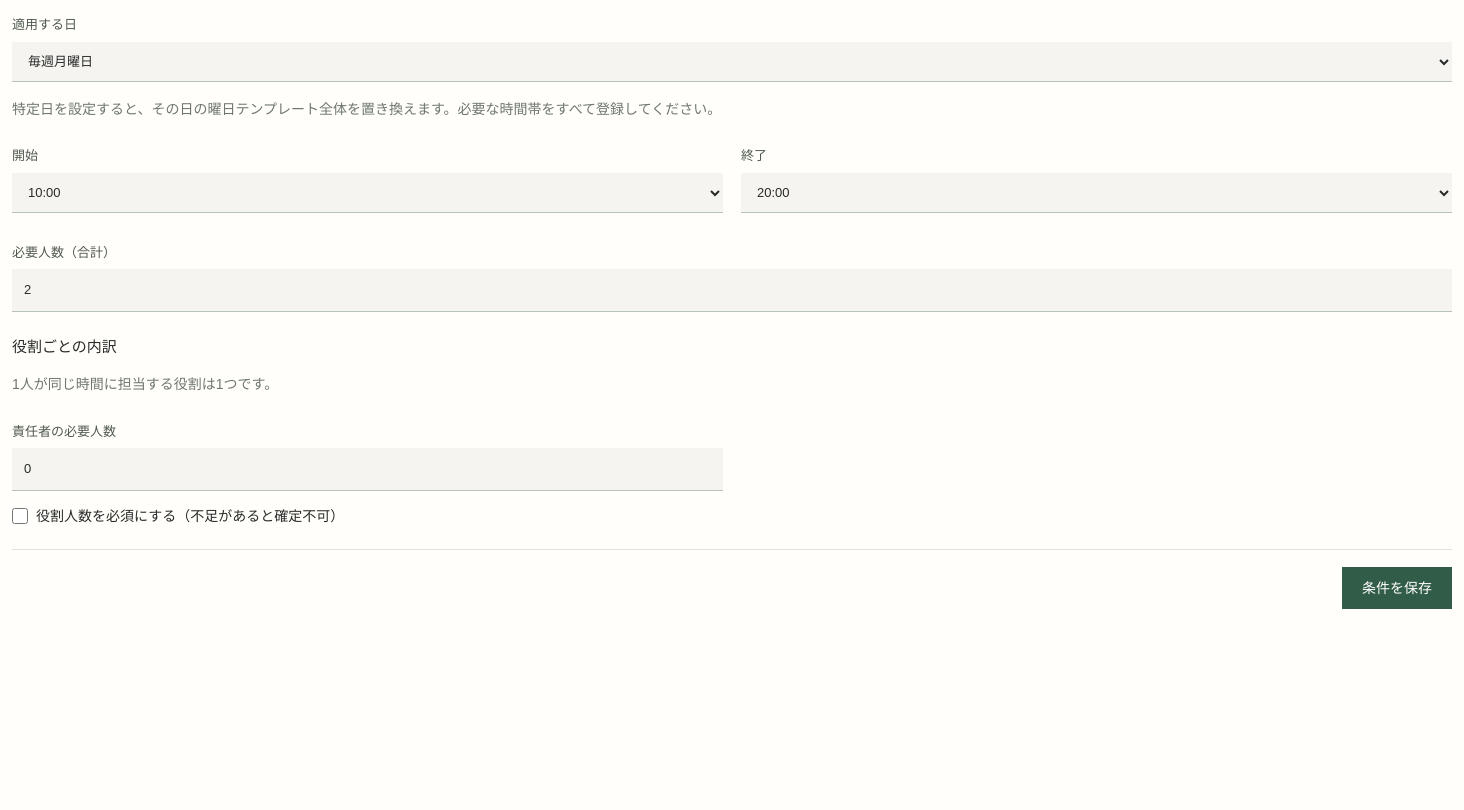
Test case: 役割合計が必要人数を超えたら保存を止める
This screenshot has width=1464, height=810.
Replace the text in the number field labelled "責任者の必要人数" with "3" at (368, 469), box [12,448,723,490]
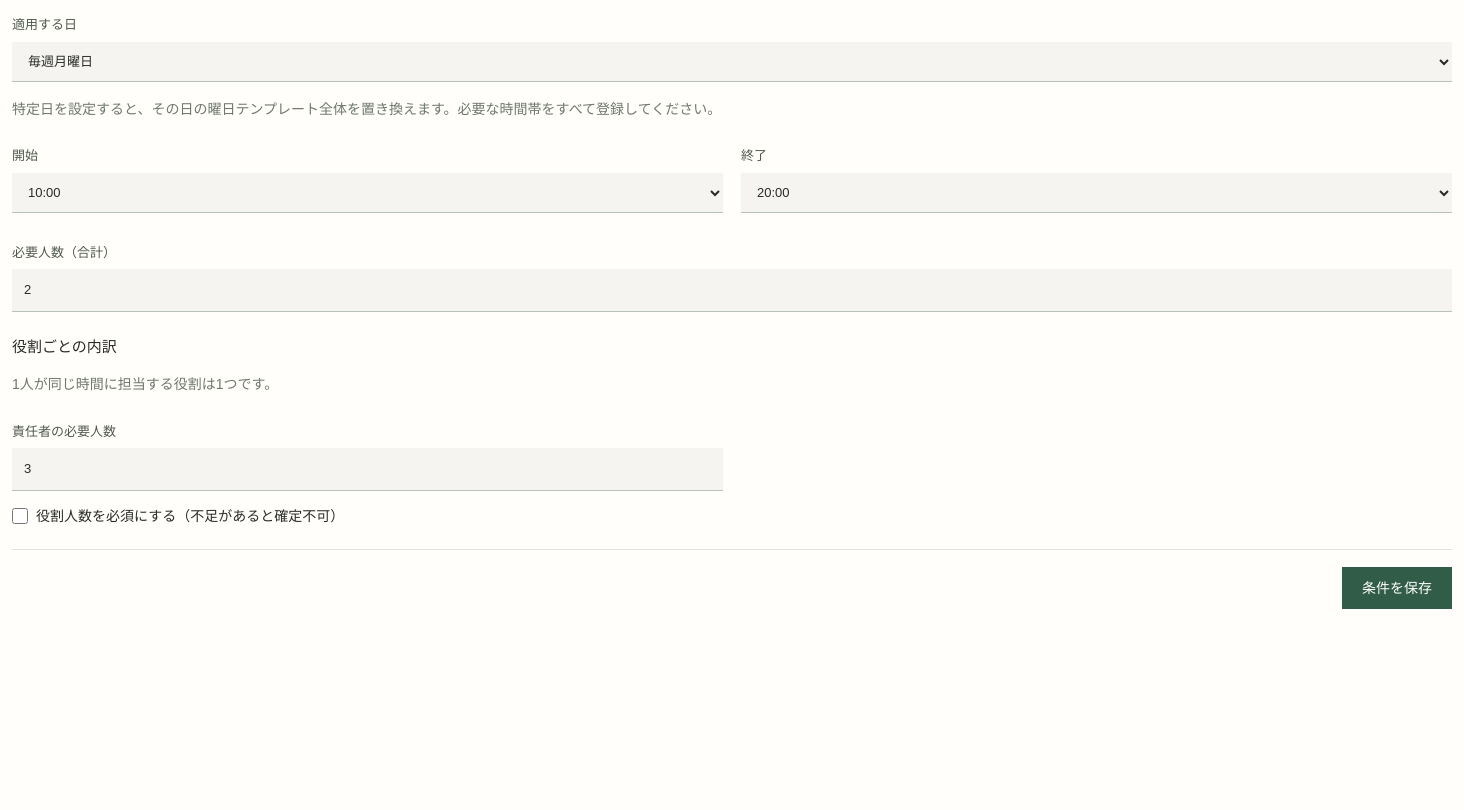
Click the button "条件を保存" at (1397, 588), box [1342,566,1452,609]
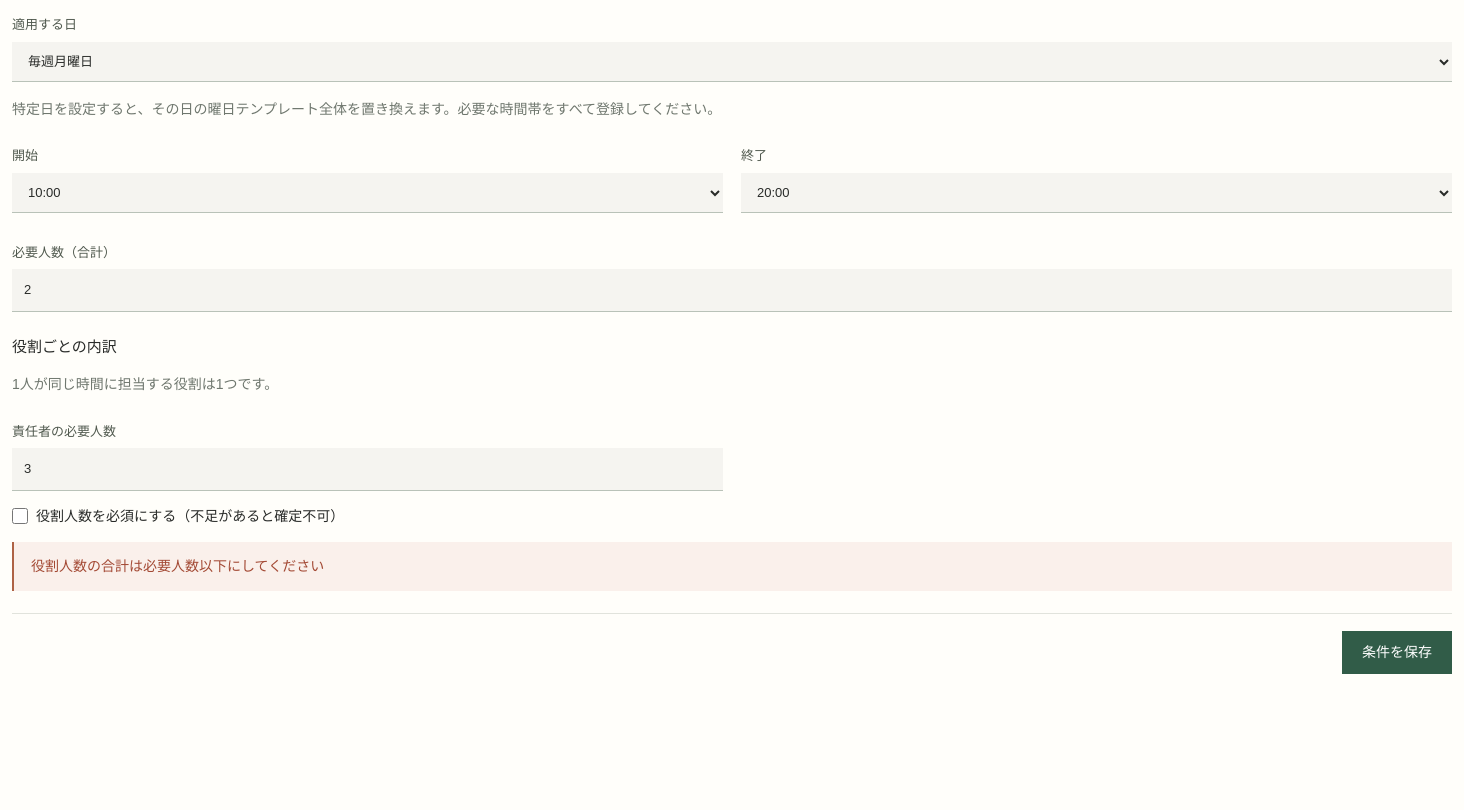
Expected: the message shows "役割人数の合計", [31,558,324,574]
